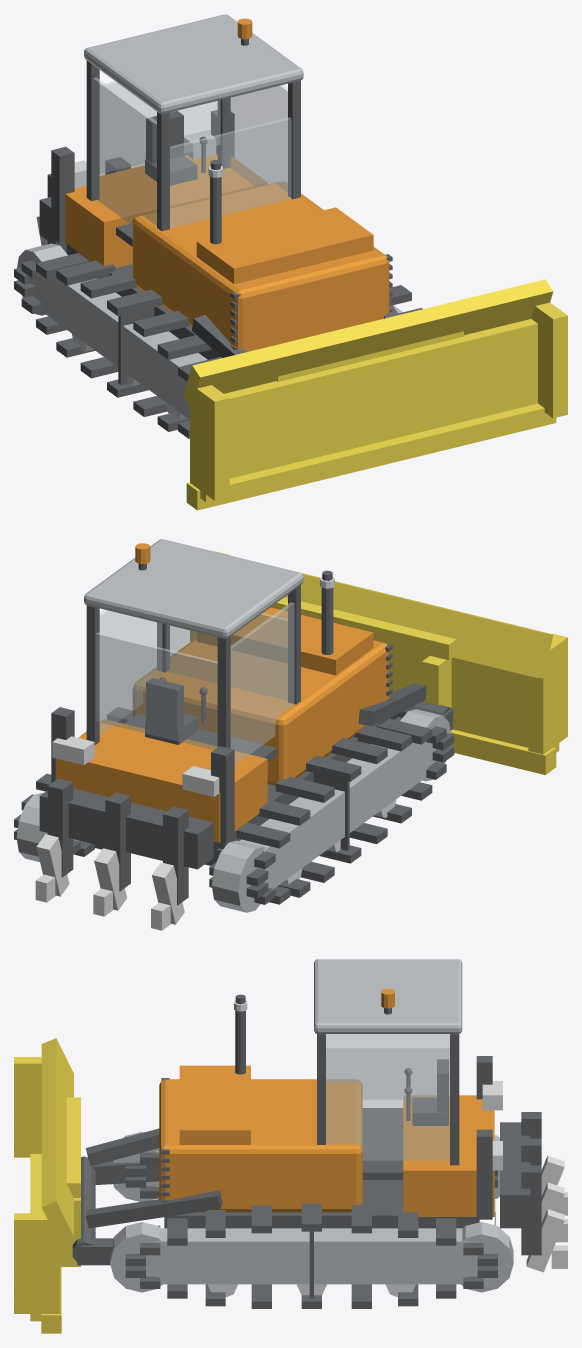
Rendered from bulldozer.glb.
3 renders of one model, top to bottom at view 1: azimuth 30°, elevation 25°; view 2: azimuth 150°, elevation 25°; view 3: azimuth 270°, elevation 25°, orthographic. The views are drawn at different scales.
Visible parts, largest first — view 1: demolition-and-site-clearance-bulldozer, blade-angle, blade; view 2: demolition-and-site-clearance-bulldozer, blade-angle, blade; view 3: demolition-and-site-clearance-bulldozer, blade-angle, blade.
Part boxes in pixels (<box>): demolition-and-site-clearance-bulldozer: <box>14,14,422,438</box>; blade-angle: <box>183,279,567,510</box>; blade: <box>192,305,398,357</box>; demolition-and-site-clearance-bulldozer: <box>14,539,454,930</box>; blade-angle: <box>190,551,567,774</box>; blade: <box>358,683,453,730</box>; demolition-and-site-clearance-bulldozer: <box>110,959,567,1308</box>; blade-angle: <box>14,1038,80,1333</box>; blade: <box>72,1128,222,1265</box>.
Bounding box in the file's own units: 3.86 × 3.09 × 5.45.
